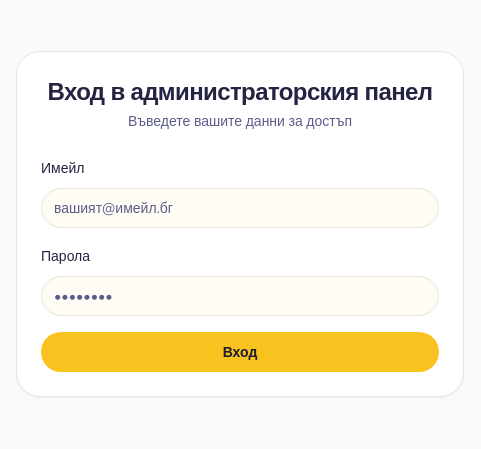
Test: Login Page › Login Flow › should display error message on login failure
Step 1. Type "admin@test.com" into the field labelled "Имейл" → (240, 208), box [41,188,439,228]
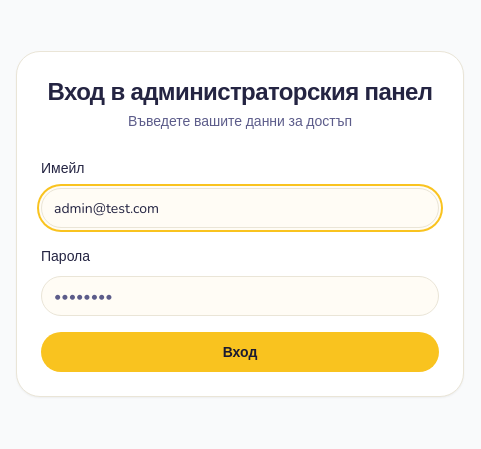
Step 2. Type "wrongpassword" into the password field labelled "Парола" → (240, 296), box [41,276,439,316]
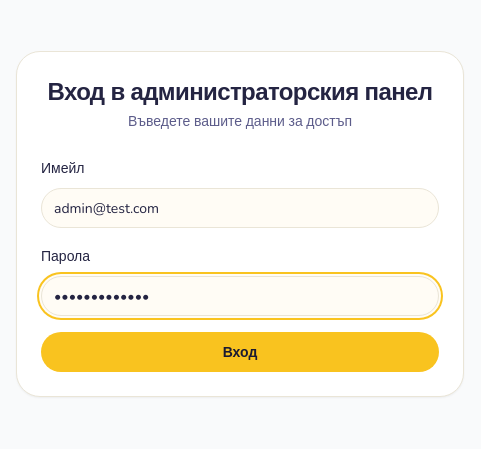
Step 3. Click the button "Вход" → (240, 352), box [41,332,439,372]
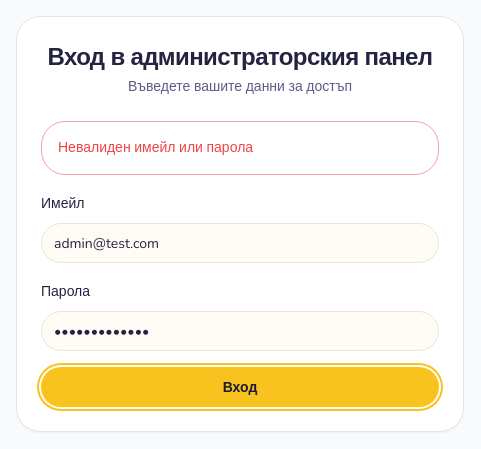
Expected: the text "Невалиден имейл или парола" is shown, [58,138,253,157]
